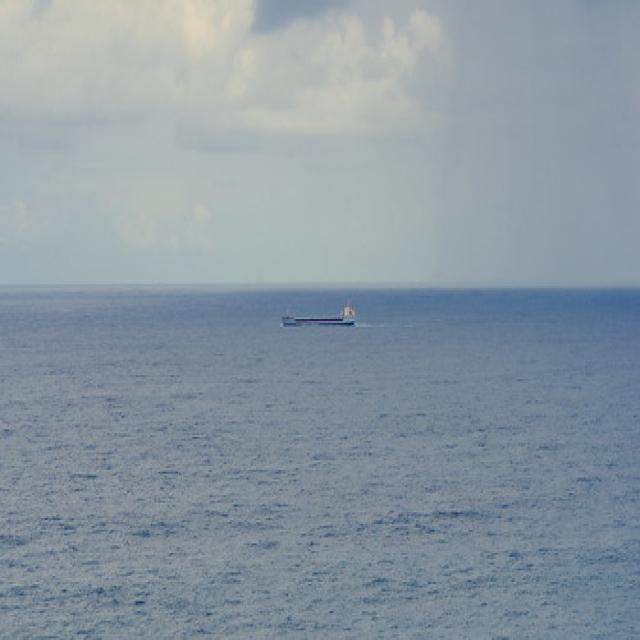cargoship: (282, 300, 358, 327)
